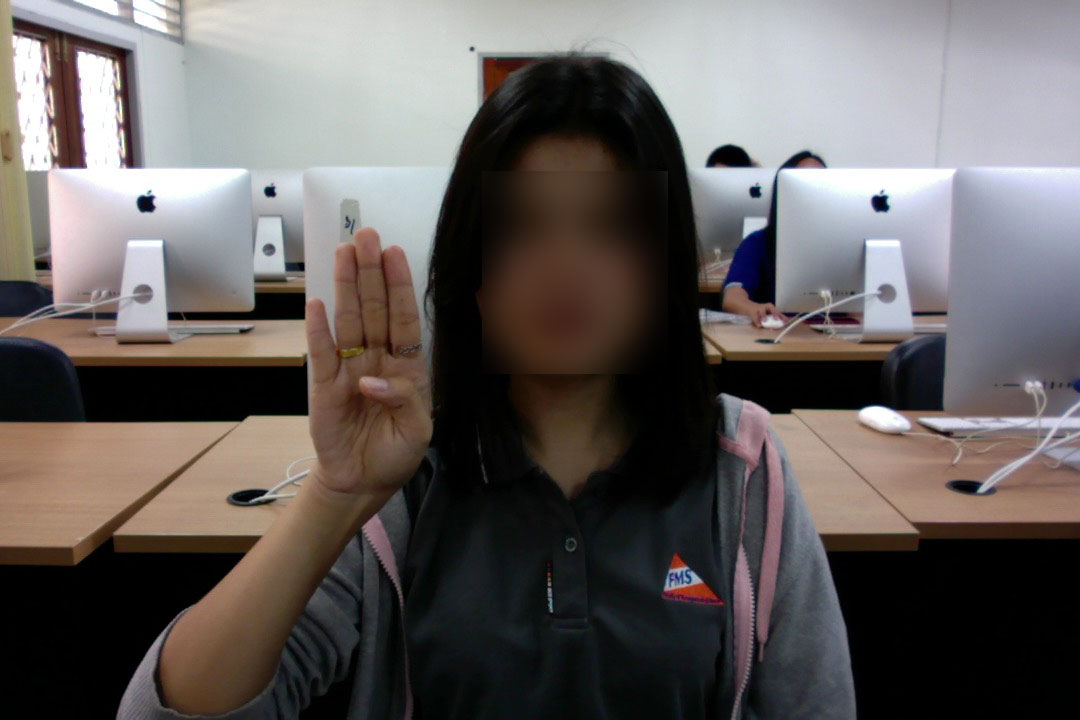bor: (292, 220, 439, 508)
